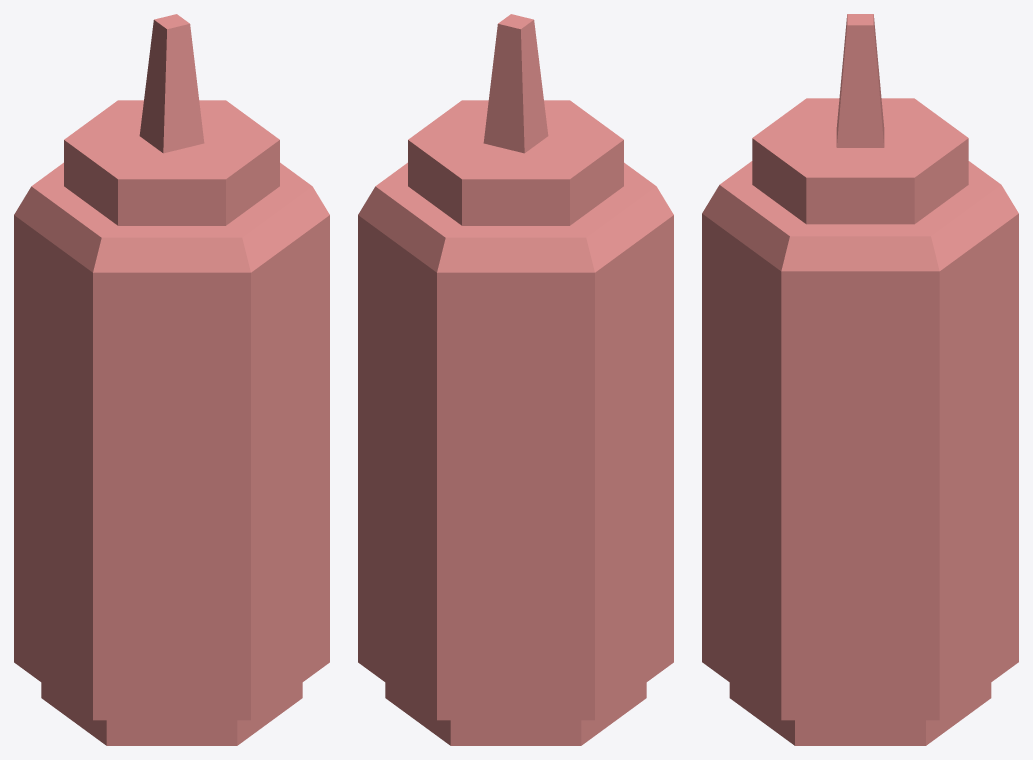
The model's file is ketchup.glb.
3 renders of one model, left to right at view 1: azimuth 30°, elevation 25°; view 2: azimuth 150°, elevation 25°; view 3: azimuth 270°, elevation 25°, orthographic.
Parts seen in each view (by area): view 1: bottleKetchup; view 2: bottleKetchup; view 3: bottleKetchup.
Boxes of the visible parts, bbox=[...] form: bottleKetchup: bbox=[14, 14, 329, 745]; bottleKetchup: bbox=[358, 14, 673, 745]; bottleKetchup: bbox=[702, 14, 1018, 745].
Size of the model in its own units: 0.1441 by 0.3931 by 0.1664.
